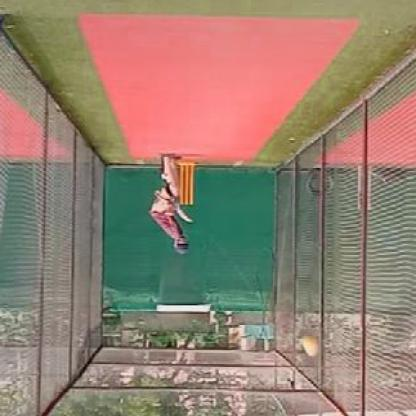ball: (298, 329, 326, 361)
